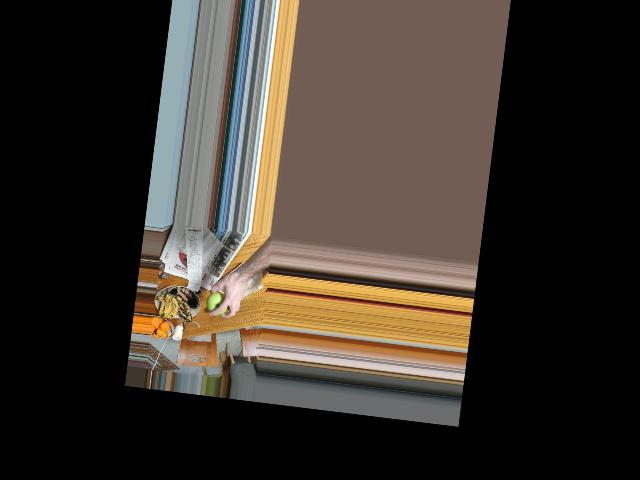apple: (205, 289, 229, 317)
